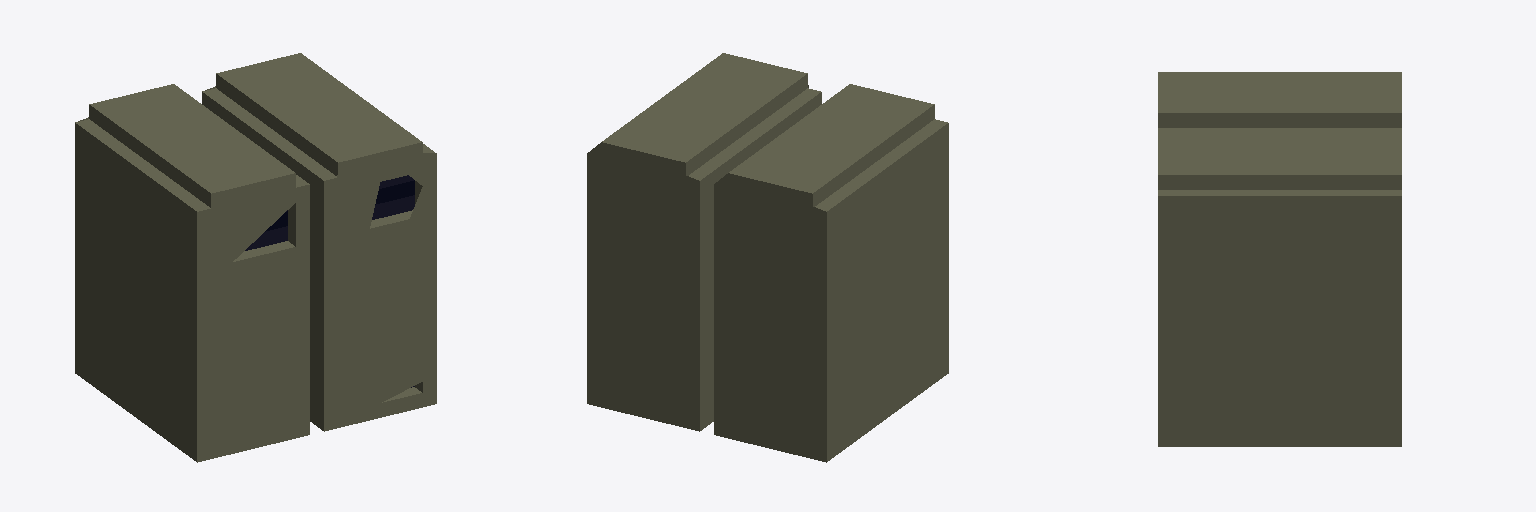
Rendered from PcDoubleCase.obj.
The picture shows the model from 3 angles: view 1: azimuth 30°, elevation 25°; view 2: azimuth 150°, elevation 25°; view 3: azimuth 270°, elevation 25°; orthographic projection.
Parts seen in each view (by area): view 1: DoublePcCase; view 2: DoublePcCase; view 3: DoublePcCase.
Boxes of the visible parts, x1,y1,x2,y2 form: DoublePcCase: [75, 53, 436, 462]; DoublePcCase: [587, 53, 948, 462]; DoublePcCase: [1158, 72, 1401, 446].
Bounding box in the file's own units: 1.06 × 1.12 × 0.9375.